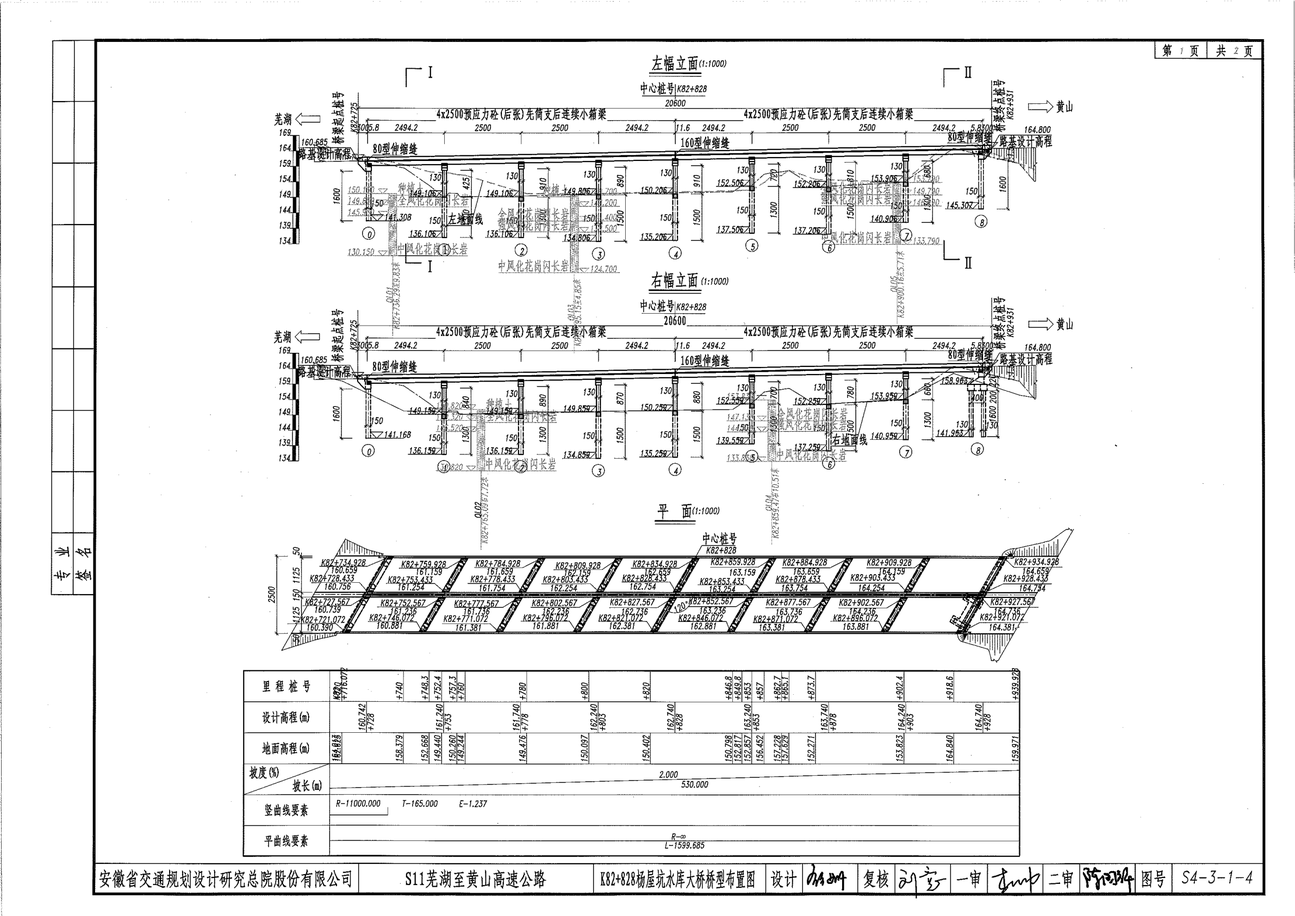A: (245, 49, 1081, 277), (255, 270, 1103, 487)
